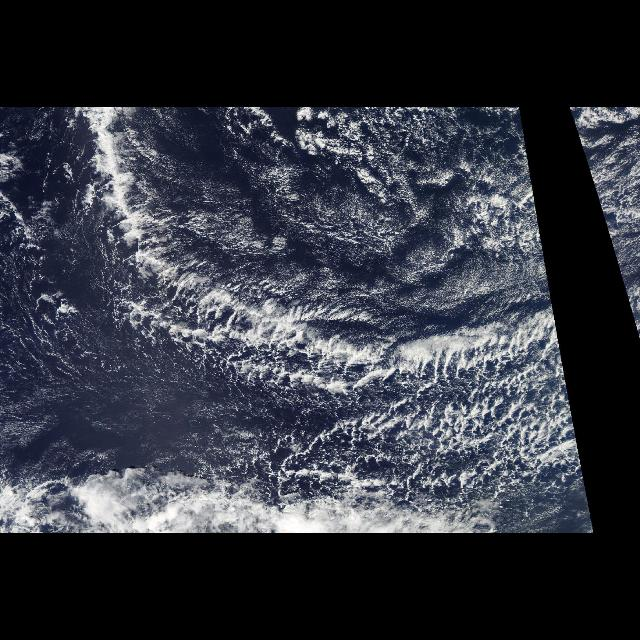Fish: (47, 107, 567, 399), (568, 109, 640, 341)
Gravel: (6, 216, 592, 509), (626, 294, 638, 340)
Sugar: (146, 111, 548, 325), (1, 115, 143, 463), (568, 112, 636, 270)
